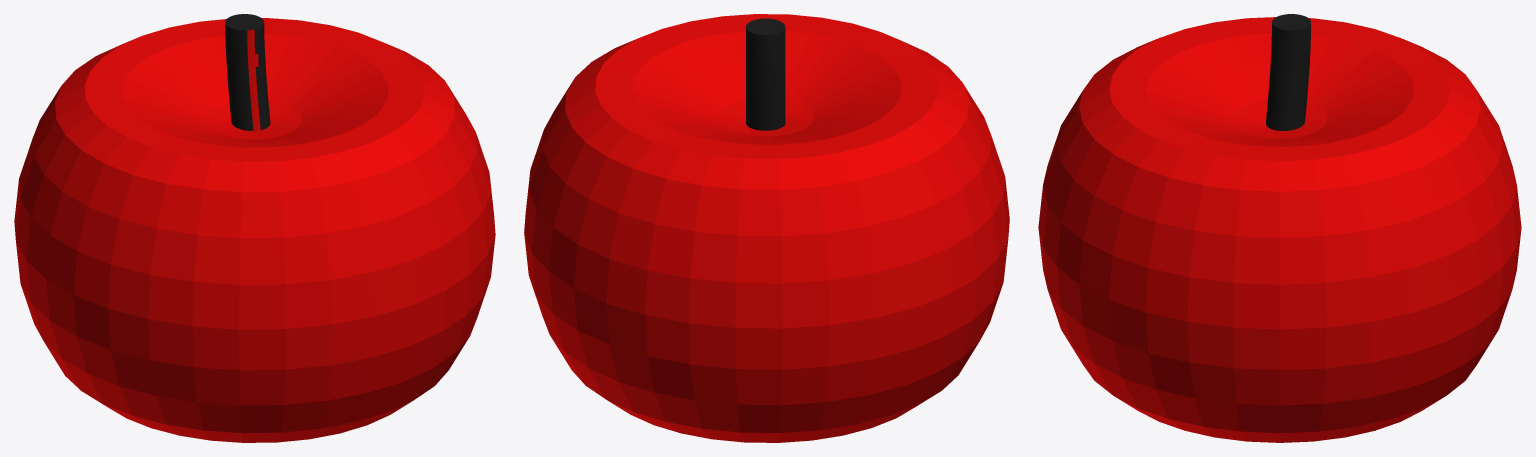
The model's file is Manzana.fbx.
3 views of the same model, side by side, from view 1: azimuth 30°, elevation 25°; view 2: azimuth 150°, elevation 25°; view 3: azimuth 270°, elevation 25° (orthographic).
Parts seen in each view (by area): view 1: Cylinder; view 2: Cylinder; view 3: Cylinder.
Boxes of the visible parts, <box> form: Cylinder: <box>14,14,495,442</box>; Cylinder: <box>524,14,1009,442</box>; Cylinder: <box>1038,14,1521,442</box>.
Size of the model in its own units: 200 by 162 by 200.
